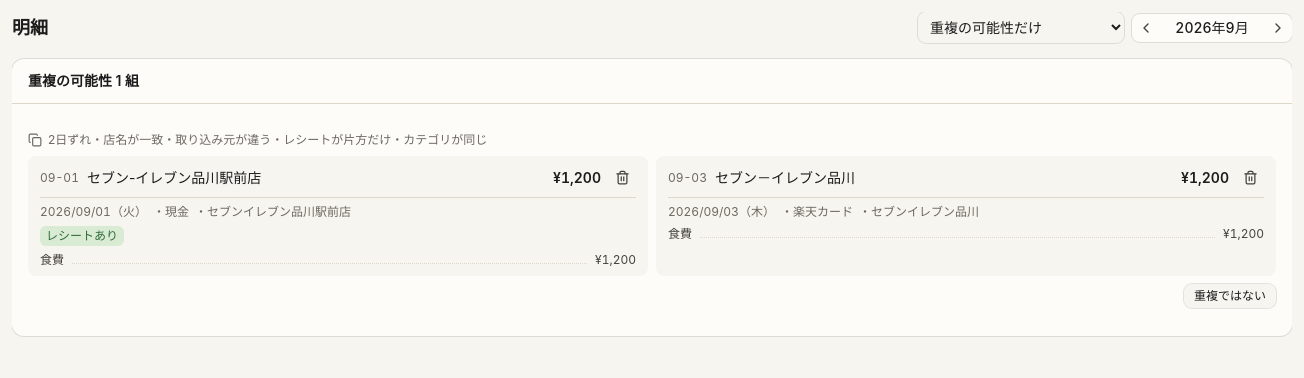
Test: TransactionsPage の重複の絞り込み › 消すのに失敗したら、黙らずに理由を出す
Click the button named "2026-09-03 の セブン－イレブン品川（楽天カード）を消す" at (1250, 178), box [1237,164,1264,191]
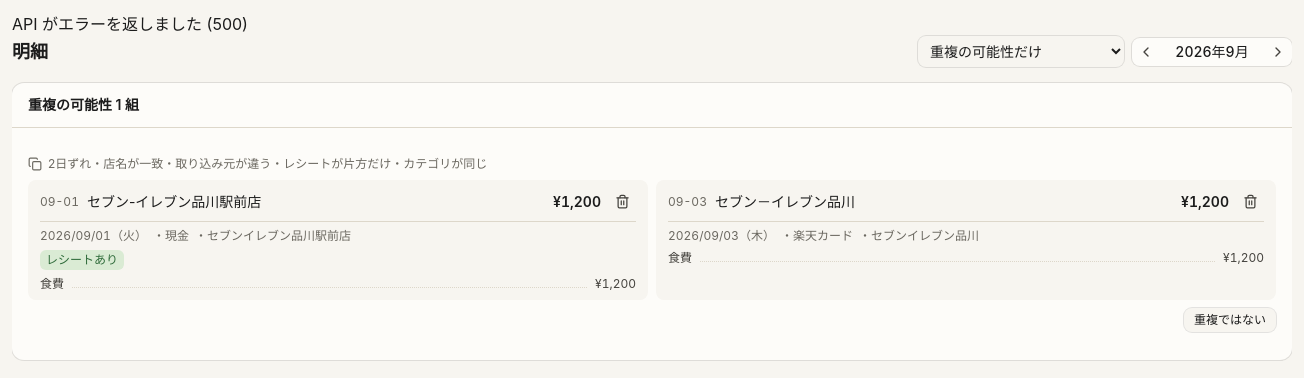
Check: the message reads "API がエラーを返しました (500)", box [12,14,248,34]
